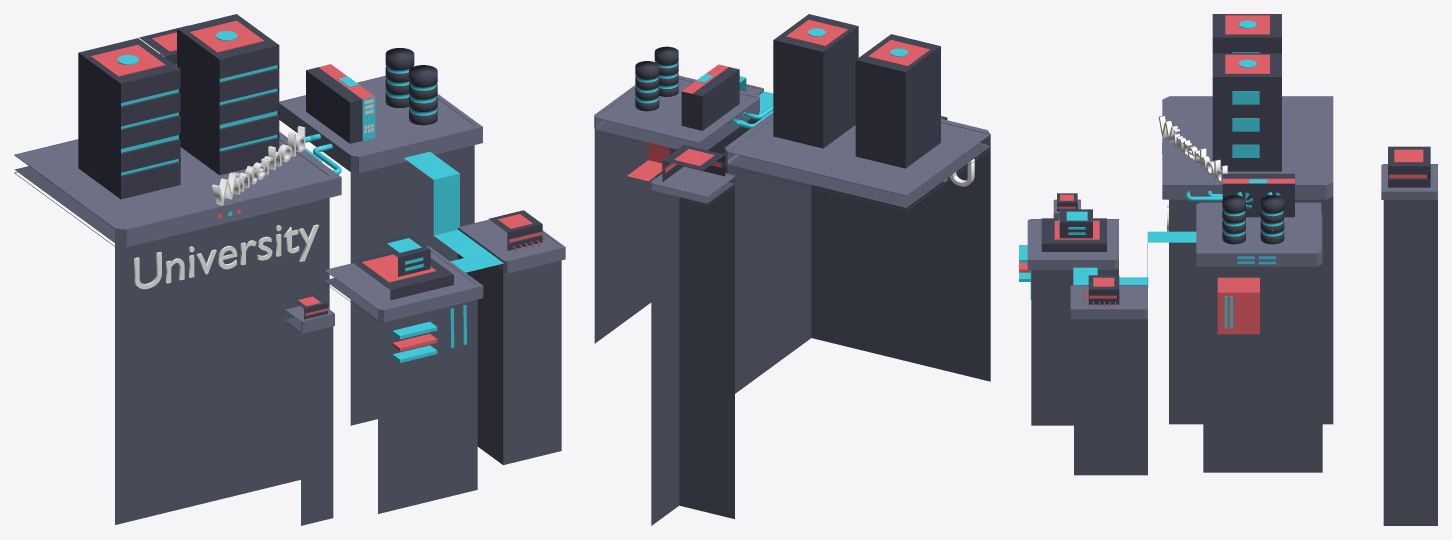
The model's file is Winterhold3DModel.glb.
3 views of the same model, side by side, from view 1: azimuth 30°, elevation 25°; view 2: azimuth 150°, elevation 25°; view 3: azimuth 270°, elevation 25° (orthographic). The views are drawn at different scales.
Visible parts, largest first — view 1: Cube, Cube.001, Cube.059, Cube.002, Cube.006, Cube.011, Cube.004, Cube.005, Cube.067, Cube.003, Cube.016, Cube.060 (+14 smaller); view 2: Cube, Cube.064, Cube.004, Cube.006, Cube.011, Cube.002, Cube.005, Cube.016, Cube.065, Cylinder.006, Cube.066, Cylinder.005 (+3 smaller); view 3: Cube.004, Cube.064, Cube.059, Cube, Cube.002, Cube.001, Cube.011, Cube.005, Cube.003, Cube.070, Cube.016, Cube.060 (+12 smaller).
Part boxes in pixels (x1=…): Cube: x1=14, y1=166, x2=329, y2=524; Cube.001: x1=325, y1=278, x2=477, y2=513; Cube.059: x1=457, y1=253, x2=561, y2=465; Cube.002: x1=14, y1=132, x2=341, y2=247; Cube.006: x1=78, y1=38, x2=180, y2=199; Cube.011: x1=177, y1=14, x2=279, y2=175; Cube.004: x1=350, y1=145, x2=474, y2=425; Cube.005: x1=279, y1=75, x2=482, y2=173; Cube.067: x1=285, y1=317, x2=333, y2=525; Cube.003: x1=324, y1=246, x2=483, y2=322; Cube.016: x1=306, y1=64, x2=375, y2=143; Cube.060: x1=458, y1=219, x2=565, y2=273; Cube: x1=727, y1=143, x2=990, y2=393; Cube.064: x1=651, y1=182, x2=734, y2=525; Cube.004: x1=594, y1=113, x2=758, y2=343; Cube.006: x1=855, y1=34, x2=940, y2=168; Cube.011: x1=773, y1=14, x2=858, y2=148; Cube.002: x1=724, y1=112, x2=990, y2=210; Cube.005: x1=594, y1=75, x2=759, y2=150; Cube.016: x1=681, y1=64, x2=739, y2=130; Cube.065: x1=650, y1=166, x2=734, y2=205; Cylinder.006: x1=635, y1=61, x2=659, y2=111; Cube.066: x1=662, y1=145, x2=725, y2=181; Cylinder.005: x1=654, y1=46, x2=678, y2=96; Cube.004: x1=1203, y1=213, x2=1322, y2=472; Cube.064: x1=1383, y1=199, x2=1437, y2=525; Cube.059: x1=1074, y1=318, x2=1147, y2=475; Cube: x1=1169, y1=197, x2=1333, y2=424; Cube.002: x1=1162, y1=96, x2=1333, y2=199; Cube.001: x1=1031, y1=269, x2=1118, y2=425; Cube.011: x1=1212, y1=53, x2=1281, y2=171; Cube.005: x1=1196, y1=202, x2=1321, y2=266; Cube.003: x1=1027, y1=219, x2=1118, y2=269; Cube.070: x1=1217, y1=277, x2=1259, y2=334; Cube.016: x1=1222, y1=173, x2=1294, y2=217; Cube.060: x1=1070, y1=285, x2=1147, y2=319.
Bounding box in the file's own units: 0.8328 × 1.07 × 0.9477.
